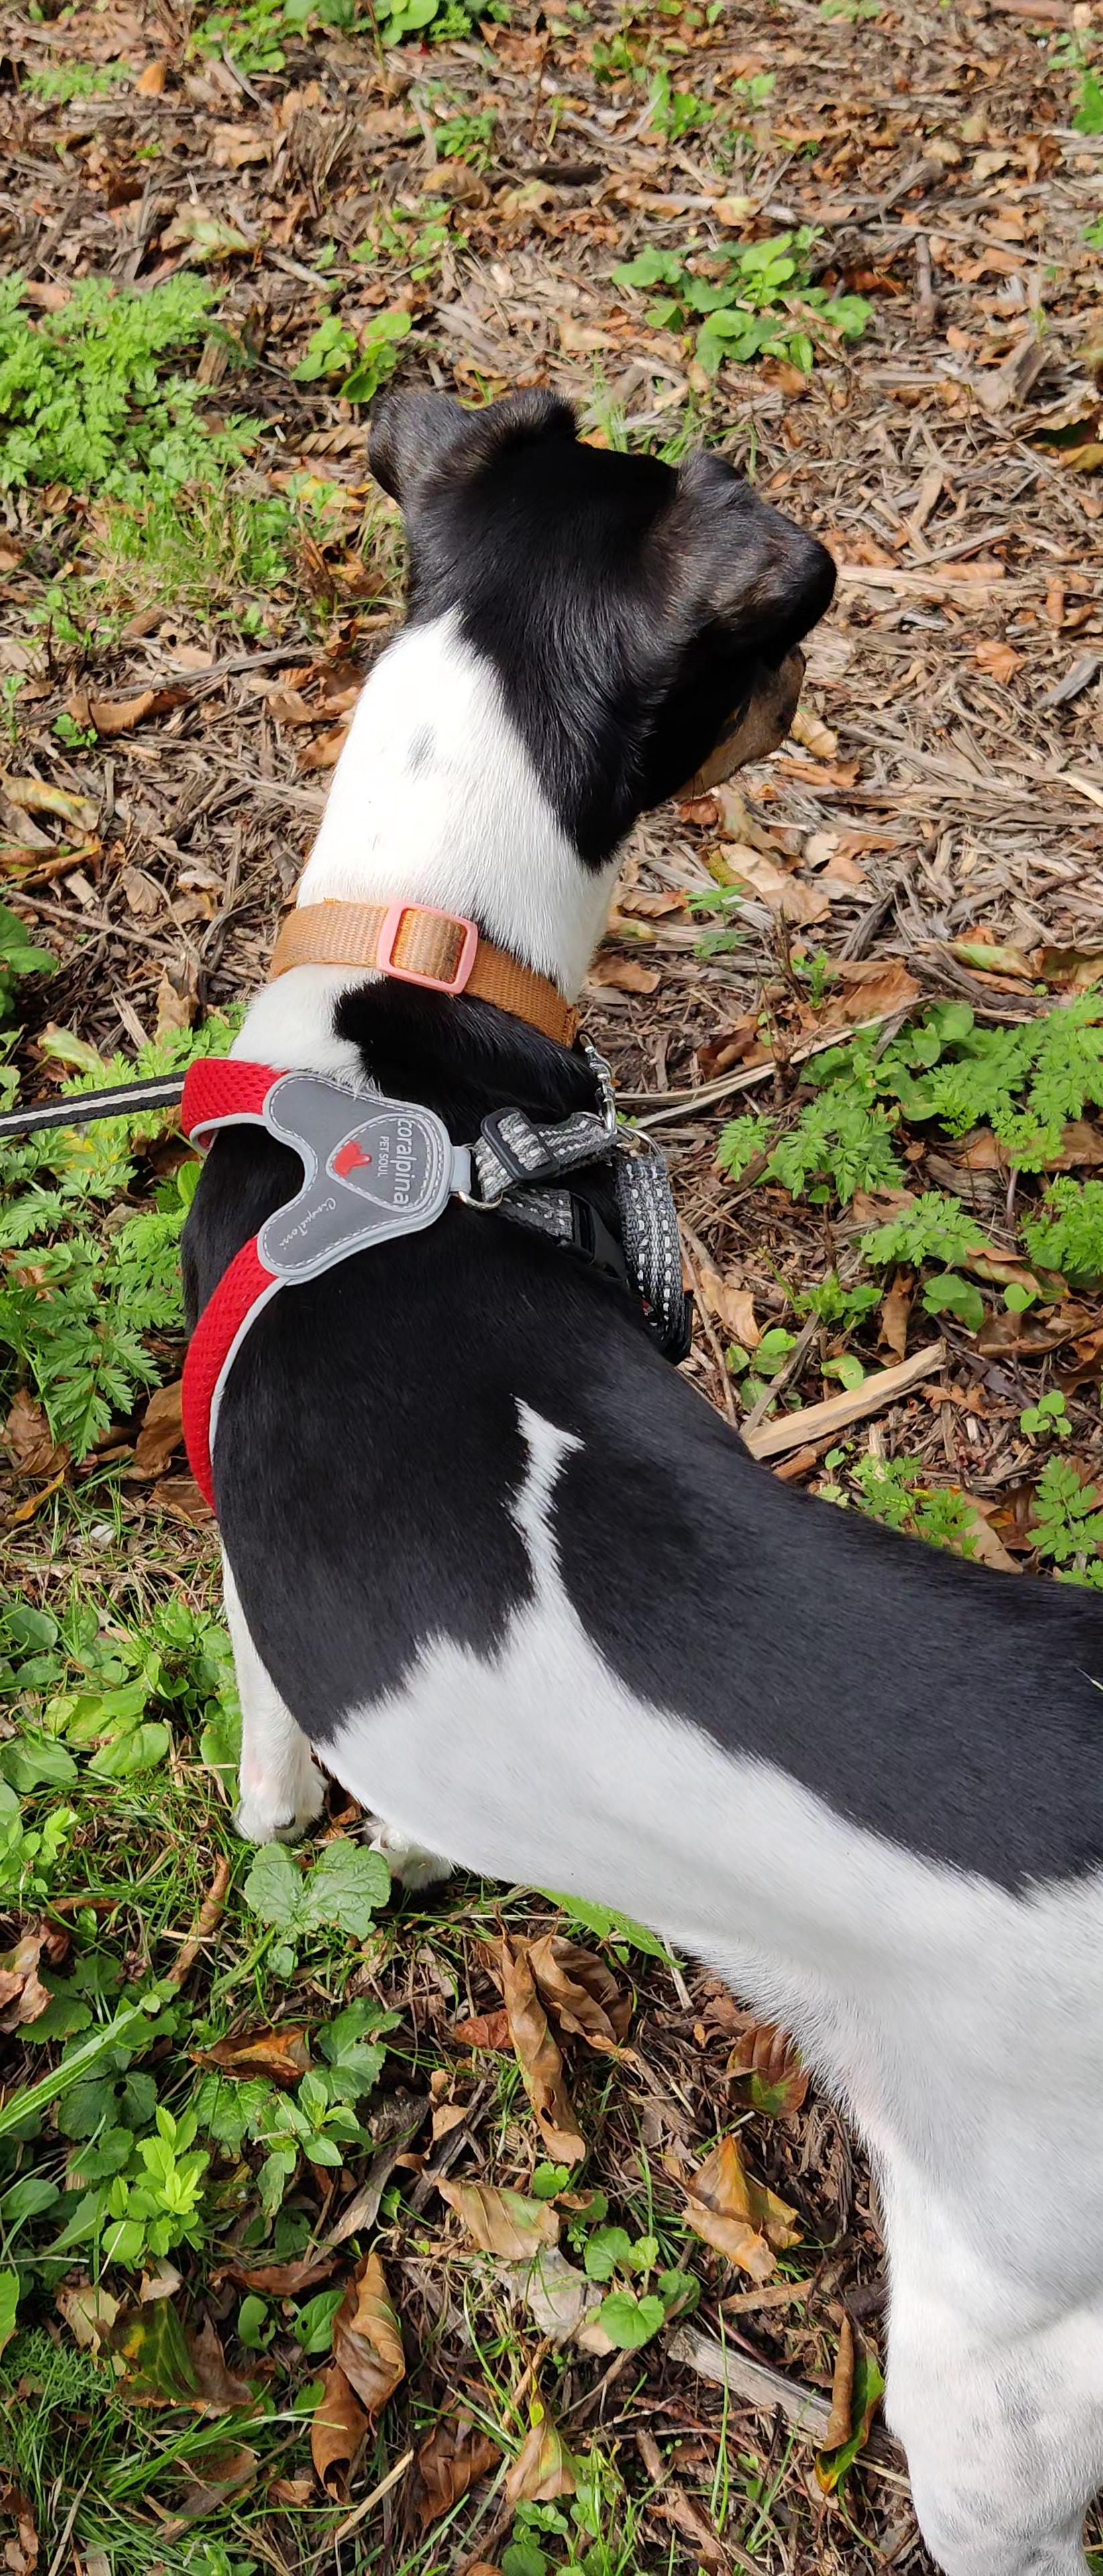Dog: (130, 345, 1103, 2576)
